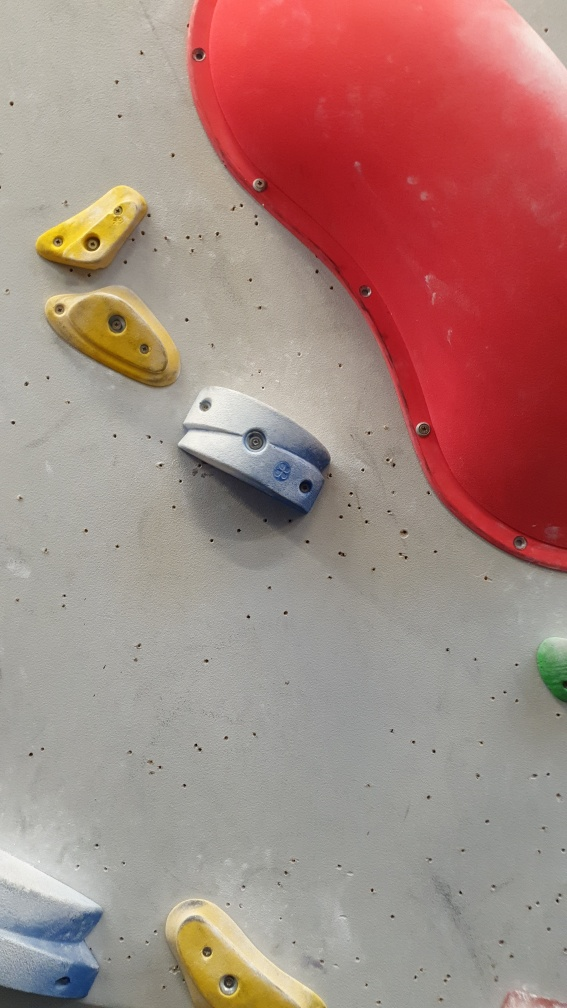Crimp: (169, 912, 308, 1008), (66, 289, 177, 381), (58, 197, 148, 270)
Pinch: (178, 384, 336, 516), (1, 846, 110, 995)
